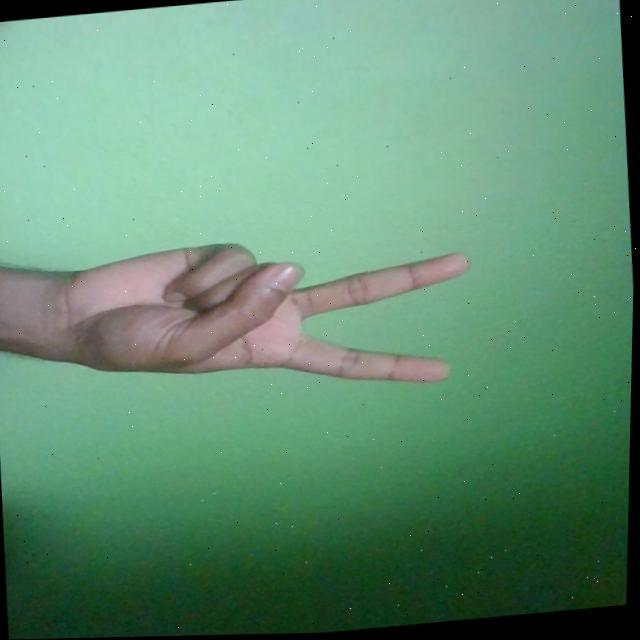Peace: (48, 222, 481, 417)
